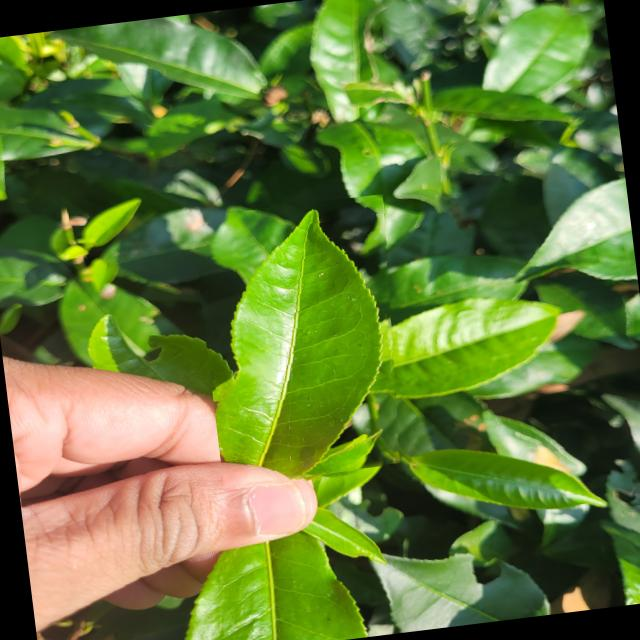Catagory A(1-2 days): (190, 193, 417, 491)
